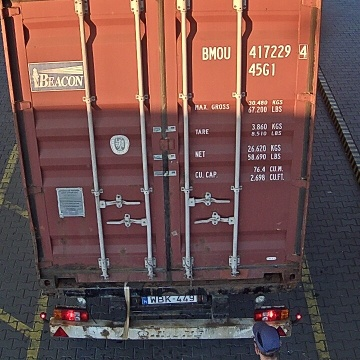serial_id: (202, 44, 308, 59)
